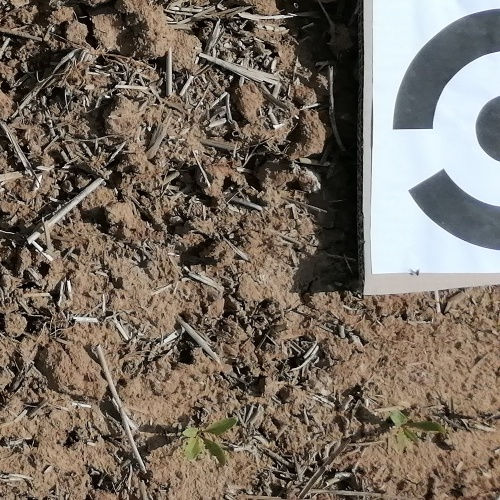beet: (178, 417, 241, 466), (380, 408, 448, 450)
